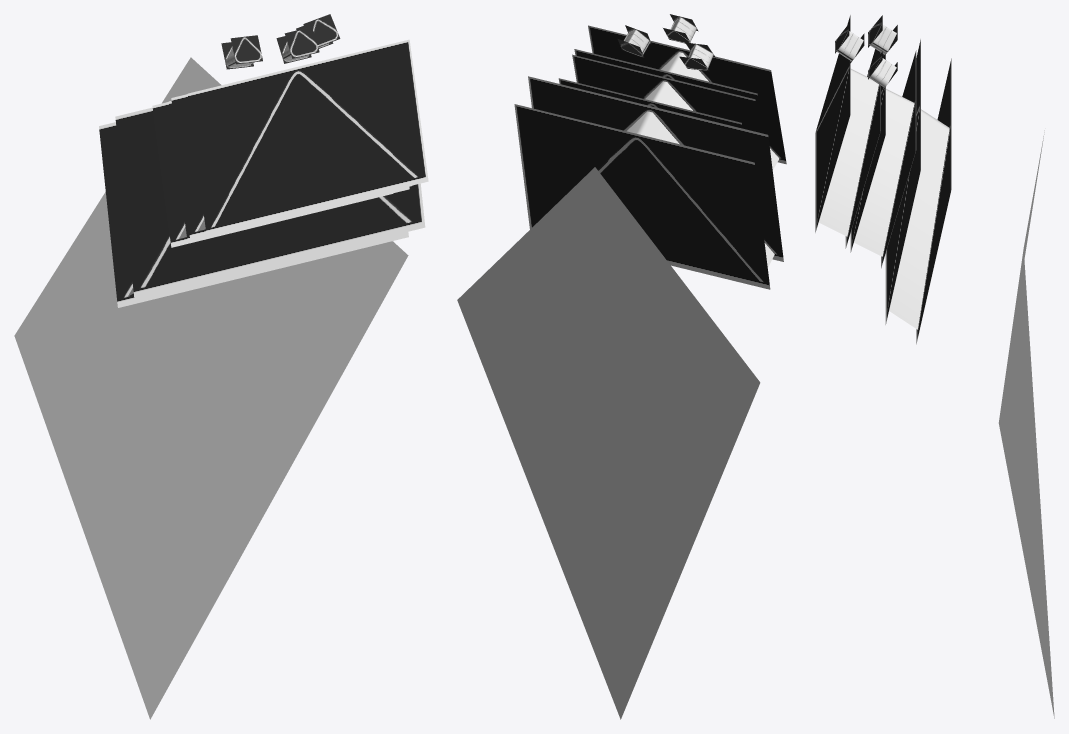
3 renders of one model, left to right at view 1: azimuth 30°, elevation 25°; view 2: azimuth 150°, elevation 25°; view 3: azimuth 270°, elevation 25°, orthographic. The views are drawn at different scales.
Visible parts, largest first — view 1: Object.2, topgrande2, topgrande2.4, topgrande2.5, topgrande2.1, topgrande2.3, megapattern_top (×3), topgrande2.2; view 2: Object.2, topgrande2.5, topgrande2.4, topgrande2, topgrande2.2, topgrande2.1, topgrande2.3, no_alpha.2, no_alpha, no_alpha.1; view 3: Object.2, no_alpha.2, no_alpha, no_alpha.1, topgrande2, topgrande2.4, topgrande2.5, topgrande2.3, topgrande2.1, topgrande2.2.
Boxes of the visible parts, x1,y1,x2,y2 form: Object.2: (14,57,408,719); topgrande2: (187,39,428,235); topgrande2.4: (115,107,425,298); topgrande2.5: (99,122,408,307); topgrande2.1: (171,94,411,239); topgrande2.3: (152,102,392,247); megapattern_top (×3): (230,14,340,64); topgrande2.2: (169,100,409,243); Object.2: (457,167,760,719); topgrande2.5: (514,104,770,289); topgrande2.4: (528,76,783,261); topgrande2: (588,25,786,164); topgrande2.2: (572,54,760,132); topgrande2.1: (574,49,764,133); topgrande2.3: (558,78,742,128); no_alpha.2: (627,111,774,268); no_alpha: (661,52,779,169); no_alpha.1: (645,81,692,110); Object.2: (998,130,1054,718); no_alpha.2: (889,109,949,329); no_alpha: (818,69,878,236); no_alpha.1: (854,89,914,256); topgrande2: (815,15,850,232); topgrande2.4: (885,39,920,324); topgrande2.5: (916,58,951,344); topgrande2.3: (881,50,916,268); topgrande2.1: (845,49,880,248); topgrande2.2: (850,52,885,252).
Bounding box in the file's own units: 525 × 1003 × 307.
Materials: 7 (5 with a texture image).
